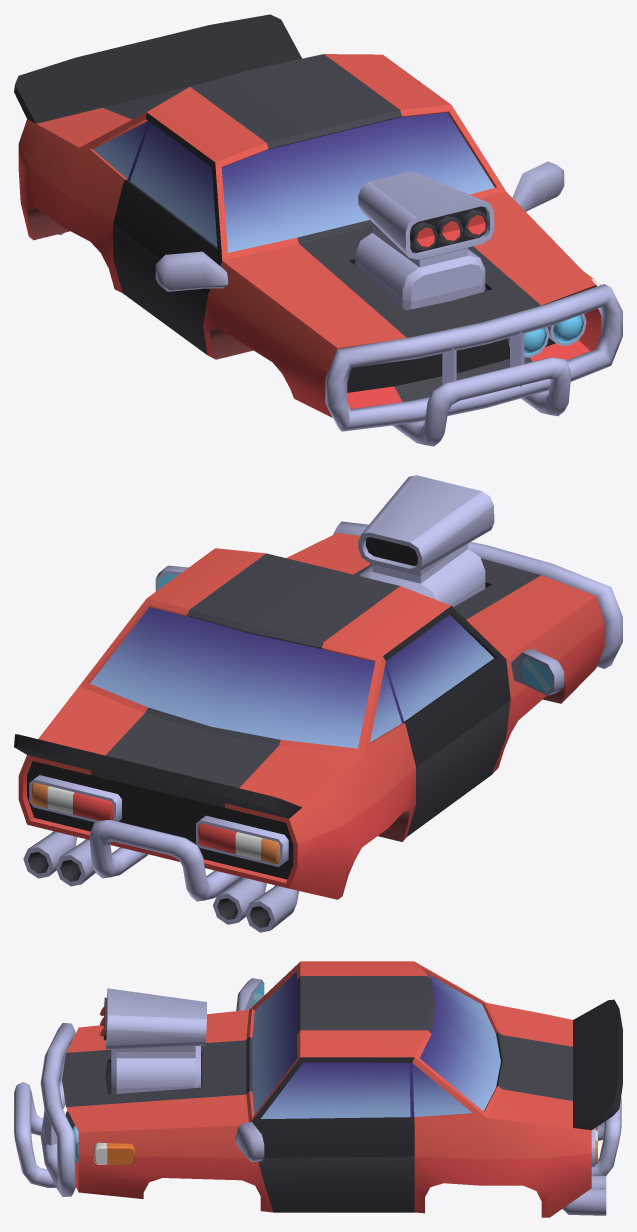
Rendered from MuscleCar_Red.fbx.
The picture shows the model from 3 angles, top to bottom: view 1: azimuth 30°, elevation 25°; view 2: azimuth 150°, elevation 25°; view 3: azimuth 270°, elevation 25°; orthographic projection. The views are drawn at different scales.
Visible parts, largest first — view 1: Car_1_Red; view 2: Car_1_Red; view 3: Car_1_Red.
Boxes of the visible parts, left/top/right/bottom form: Car_1_Red: left=14, top=14, right=622, bottom=446; Car_1_Red: left=14, top=475, right=622, bottom=932; Car_1_Red: left=14, top=961, right=622, bottom=1217.
Bounding box in the file's own units: 2.86 × 1.36 × 4.47.
